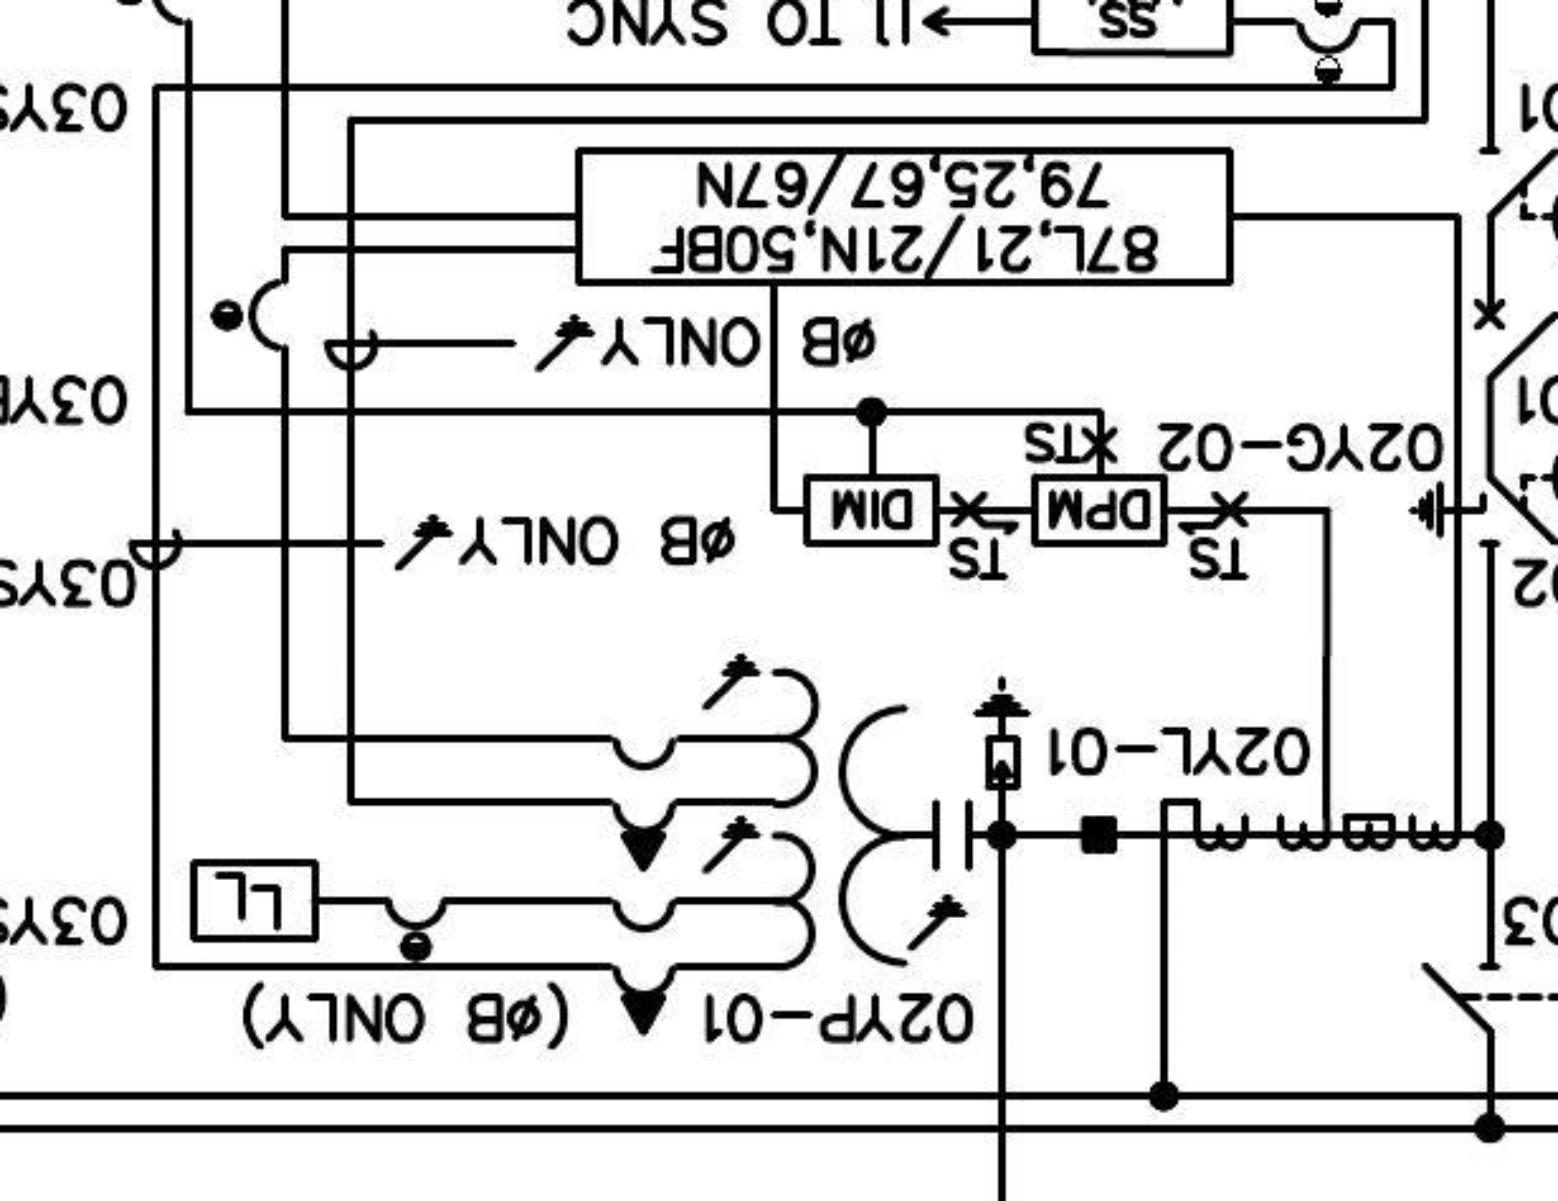115_cvt_1p: (606, 651, 975, 1038)
115_la: (971, 675, 1032, 792)
DIM: (802, 473, 941, 548)
DPM: (1031, 473, 1168, 549)
LL: (189, 858, 320, 944)
